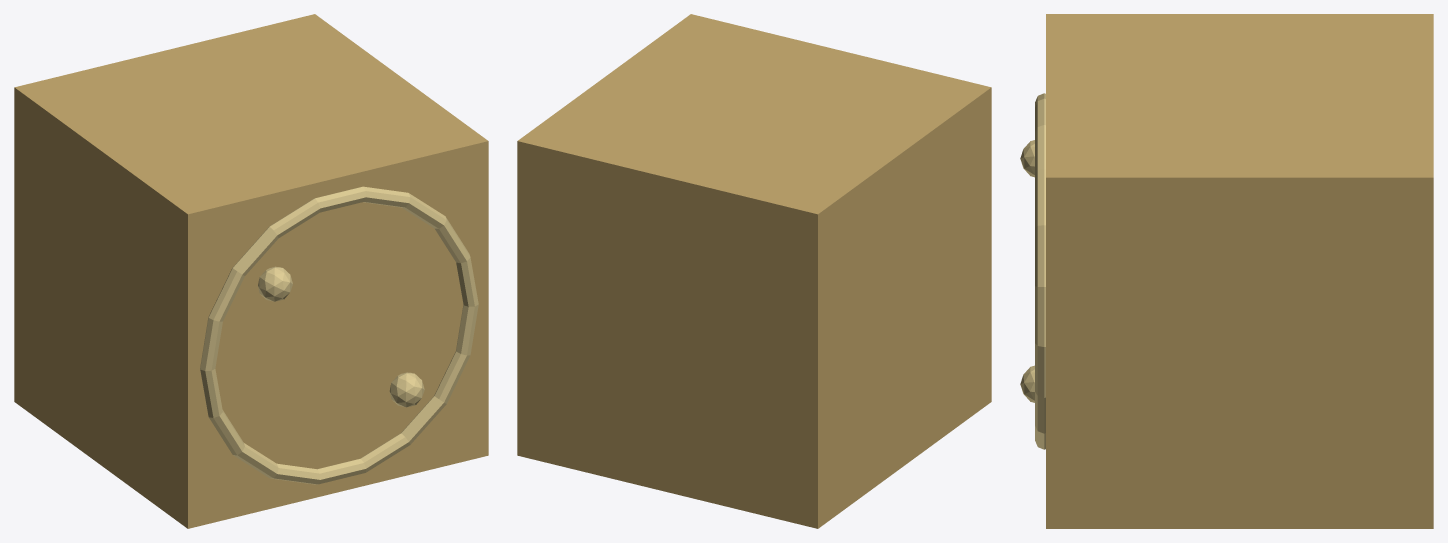
Rendered from schwarm.glb.
The picture shows the model from 3 angles, left to right: view 1: azimuth 30°, elevation 25°; view 2: azimuth 150°, elevation 25°; view 3: azimuth 270°, elevation 25°; orthographic projection. The views are drawn at different scales.
Visible parts, largest first — view 1: world; view 2: world; view 3: world.
Boxes of the visible parts, <box> form: world: <box>14,14,488,528</box>; world: <box>517,14,991,528</box>; world: <box>1020,14,1433,528</box>.
Size of the model in its own units: 1.05 by 1.05 by 1.12.
